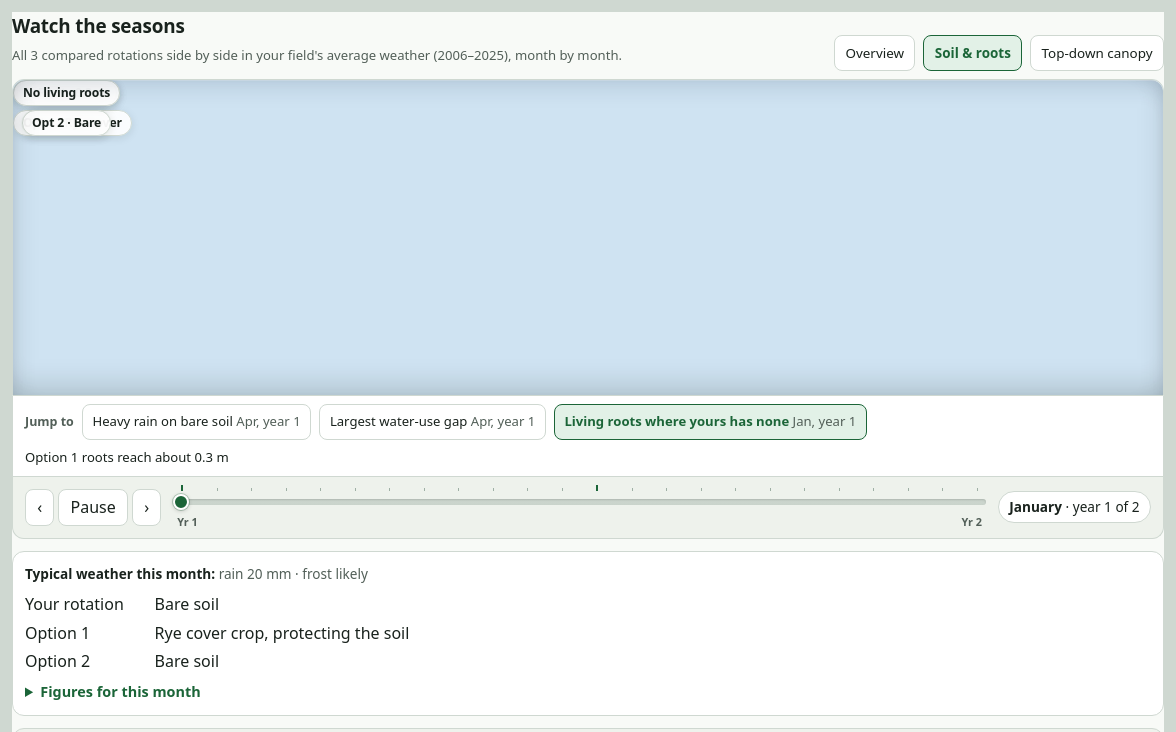
Test case: offers jump buttons to the months where options differ most, and explains the one in view
The image size is (1176, 732).
Click the button "Heavy rain on bare soil Apr, year 1" at (197, 422), box [82,404,311,440]
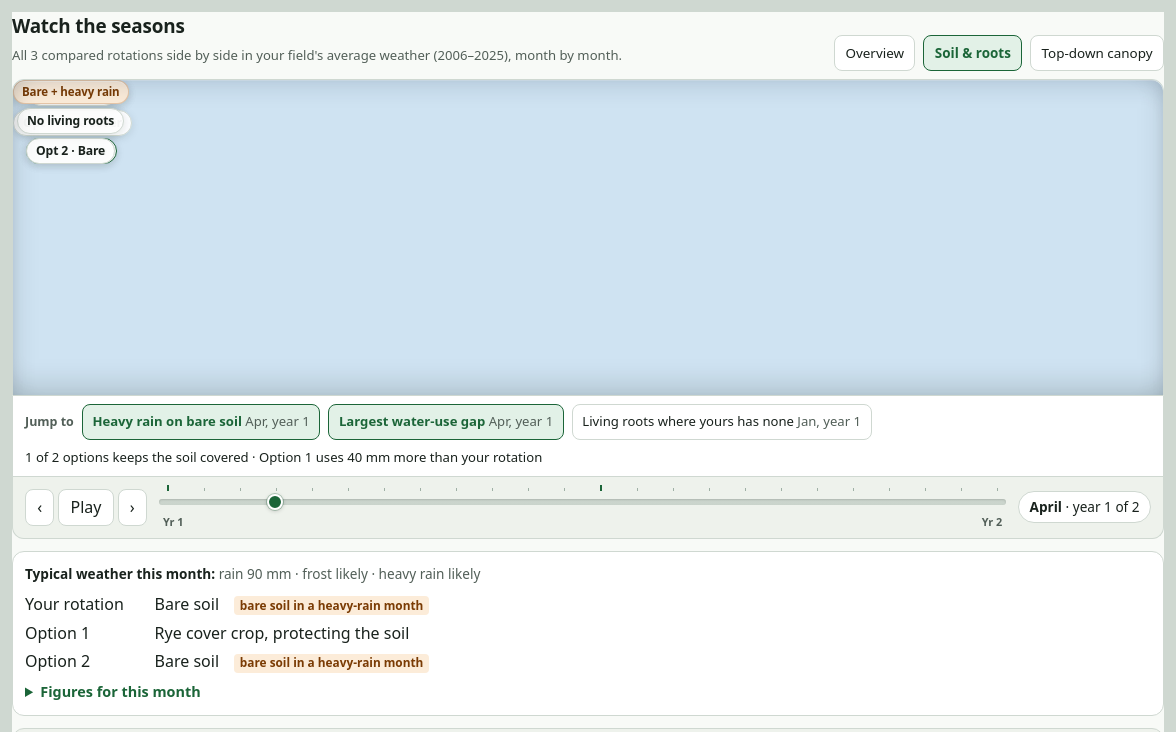
Check: the text "1 of 2 options keeps the soil covered" is shown, box [25,448,542,466]
